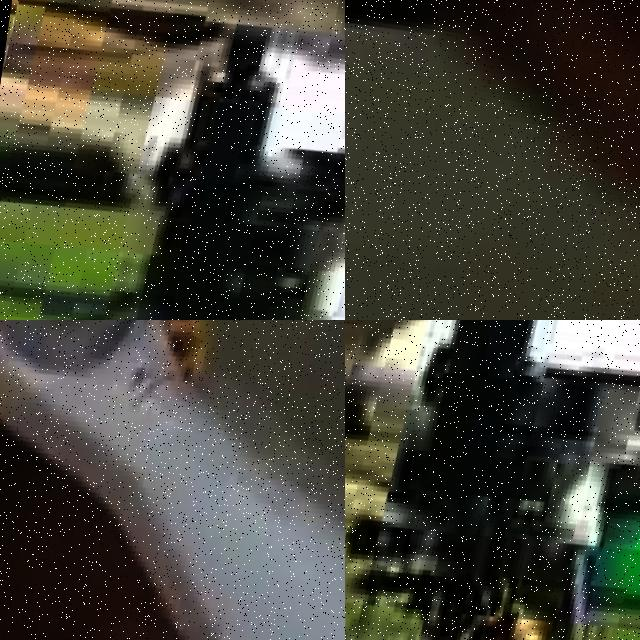0: (0, 0, 345, 320), (345, 320, 640, 640)
drone: (0, 320, 345, 640)
